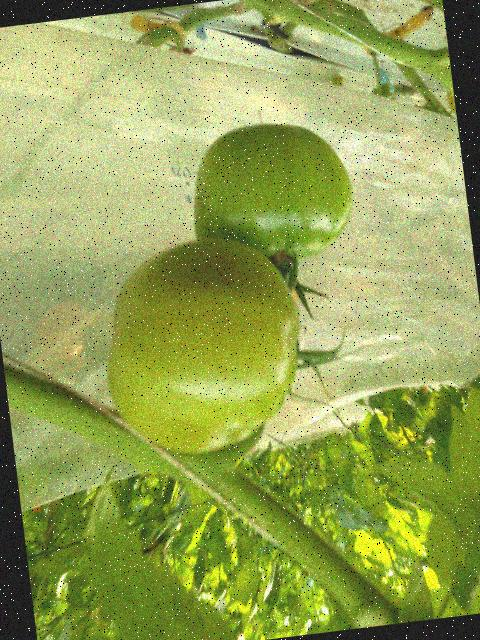b_green: (91, 228, 315, 463), (183, 114, 359, 271)
